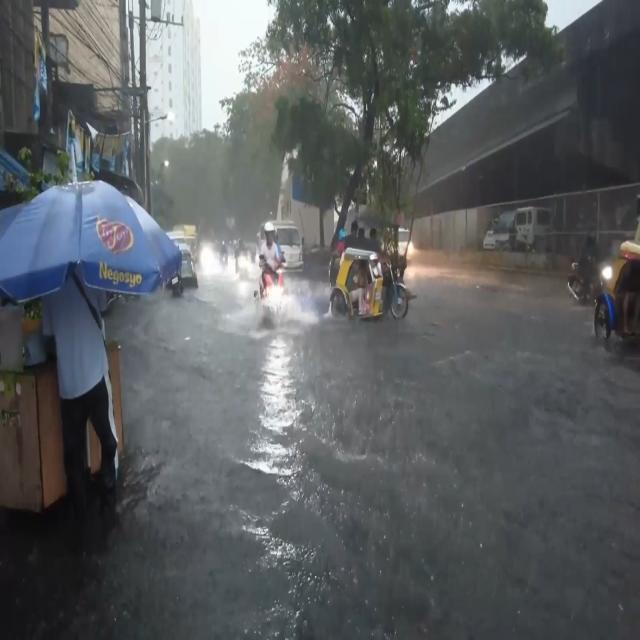half: (264, 221, 276, 247)
